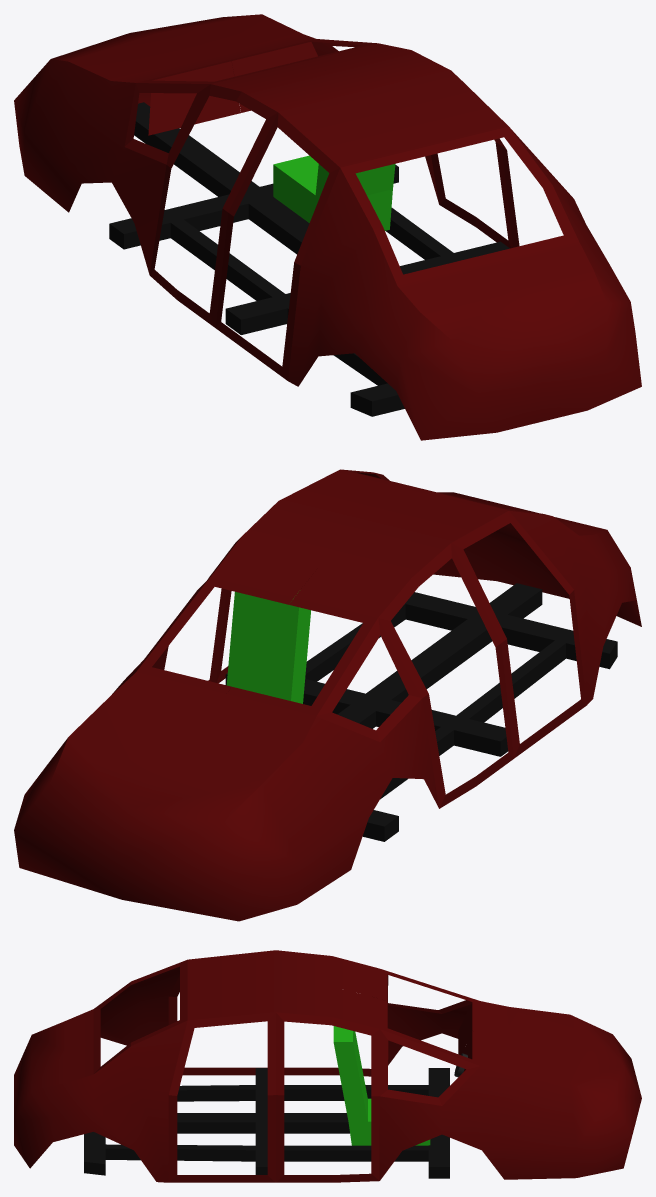
The model's file is Car Without Bonnett.FBX.
3 views of the same model, one above another, from view 1: azimuth 30°, elevation 25°; view 2: azimuth 150°, elevation 25°; view 3: azimuth 270°, elevation 25° (orthographic). The views are drawn at different scales.
Visible parts, largest first — view 1: Body, Chassis, Seat; view 2: Body, Chassis, Seat; view 3: Body, Chassis, Seat.
Boxes of the visible parts, x1,y1,x2,y2 form: Body: (14,14,641,440); Chassis: (109,102,509,416); Seat: (273,155,395,230); Body: (14,469,641,921); Chassis: (225,583,617,841); Seat: (226,591,310,703); Body: (14,950,641,1182); Chassis: (84,1068,449,1178); Seat: (333,1026,430,1145).
Bounding box in the file's own units: 1486 × 952 × 3667.
